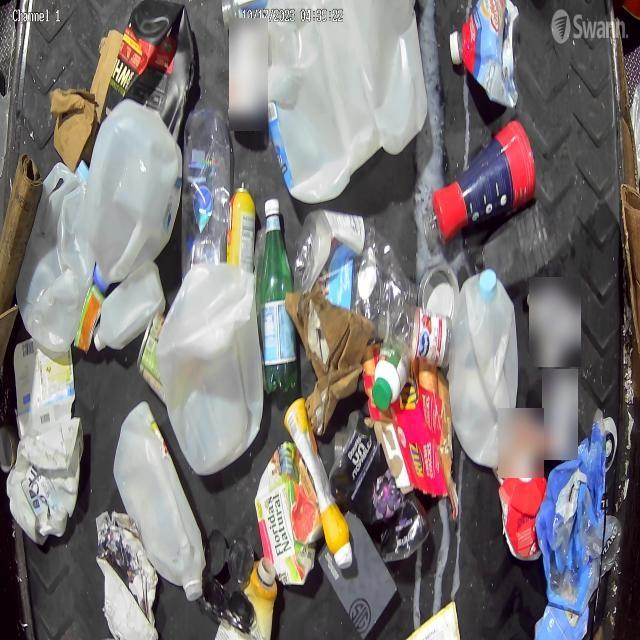milk_jug: (260, 1, 430, 202), (160, 261, 266, 477), (83, 100, 185, 292), (112, 401, 206, 598), (16, 160, 94, 356), (451, 270, 518, 467)
non_white_jug: (100, 0, 197, 144)
